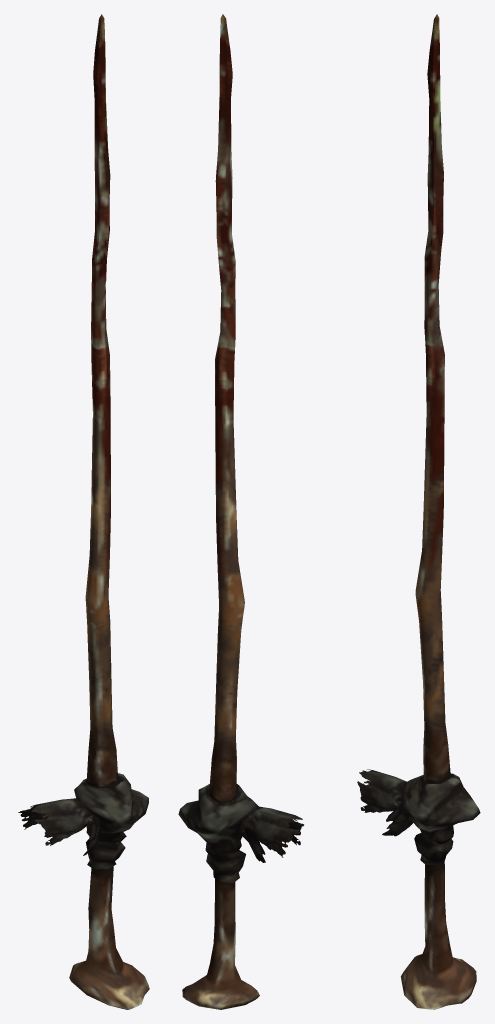
The model's file is weapon-reaching-nail.glb.
3 renders of one model, left to right at view 1: azimuth 30°, elevation 25°; view 2: azimuth 150°, elevation 25°; view 3: azimuth 330°, elevation 25°, orthographic. The views are drawn at different scales.
Visible parts, largest first — view 1: repierE_MDL_q; view 2: repierE_MDL_q; view 3: repierE_MDL_q.
Part boxes in pixels (x1,y1,x2,y2): repierE_MDL_q: [18, 14, 149, 1009]; repierE_MDL_q: [178, 14, 303, 1009]; repierE_MDL_q: [357, 14, 480, 1009].
Bounding box in the file's own units: 0.2258 × 1.63 × 0.1247.
Materials: 1 (1 with a texture image).
